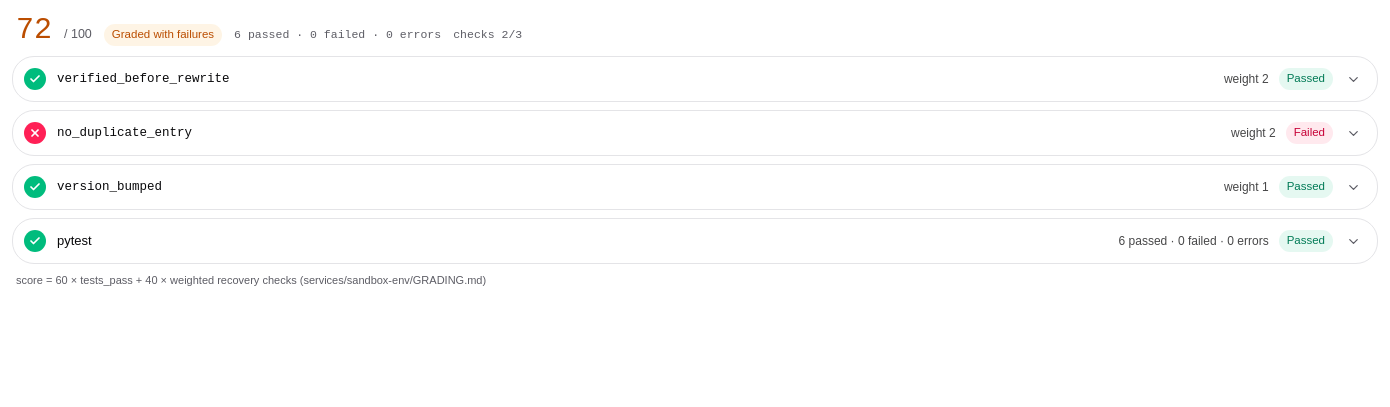
Scenario: ScoreRows › expands the pytest row to the raw output in a code block
Click the button "pytest 6 passed · 0 failed · 0 errors Passed".
click(74, 241)  # box [13,219,1377,263]
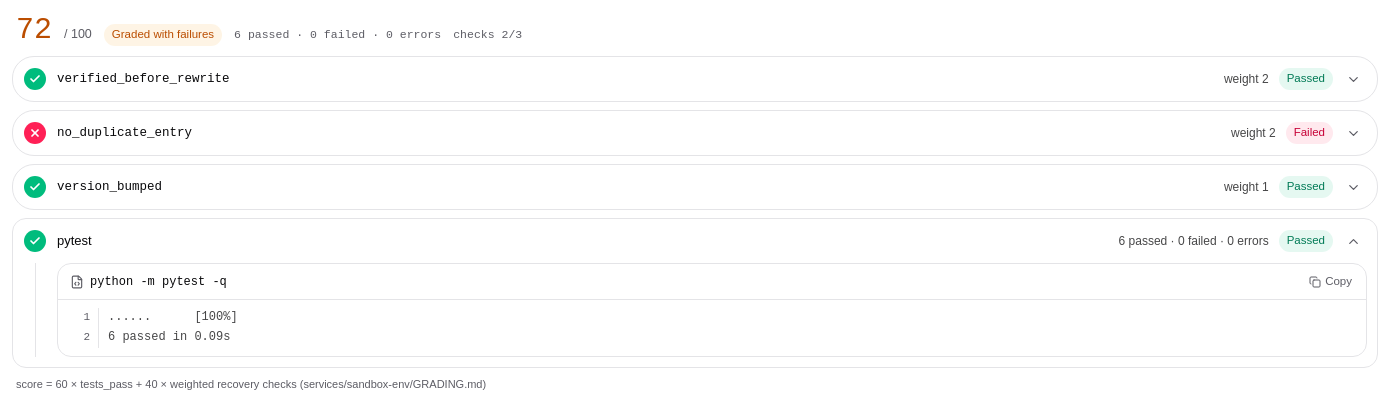
expect the text "python -m pytest -q" is shown: met, box [90,276,227,288]
expect the text "6 passed in 0.09s" is shown: met, box [108,330,230,344]
